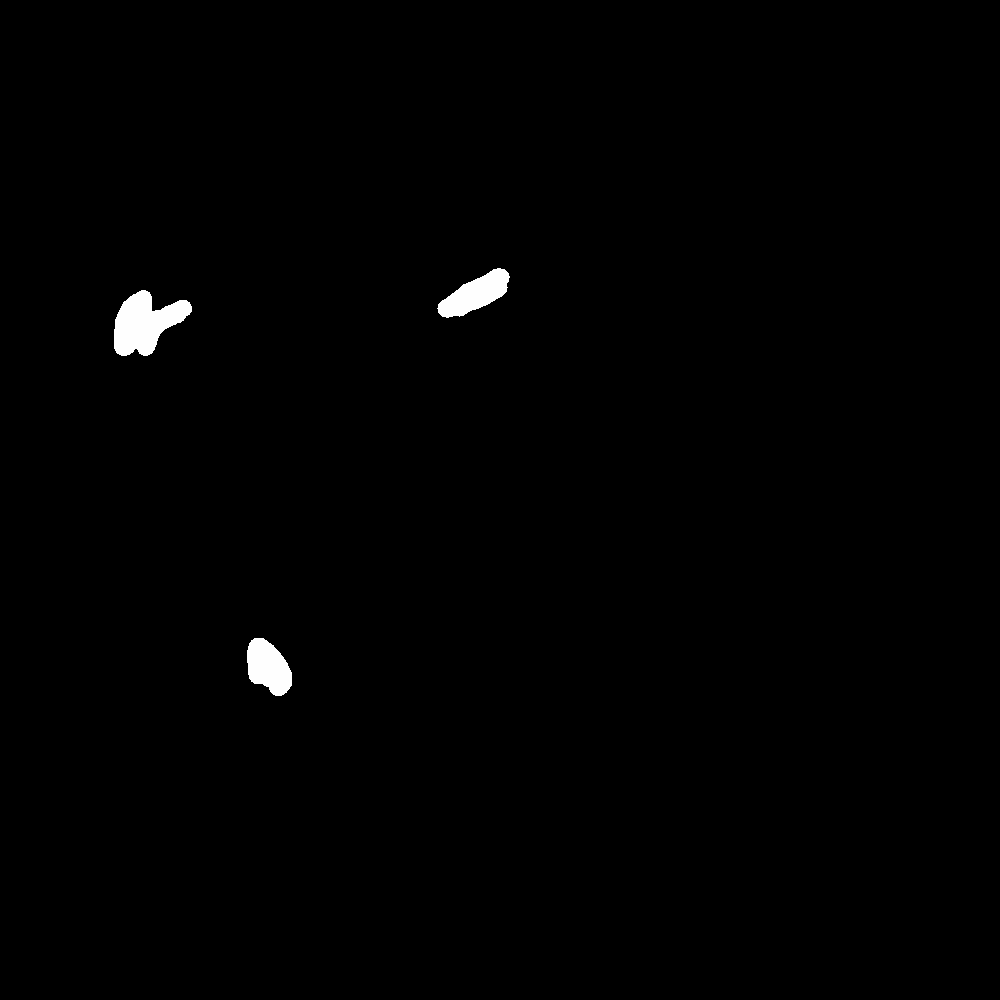illegal: (329, 248, 512, 309)
